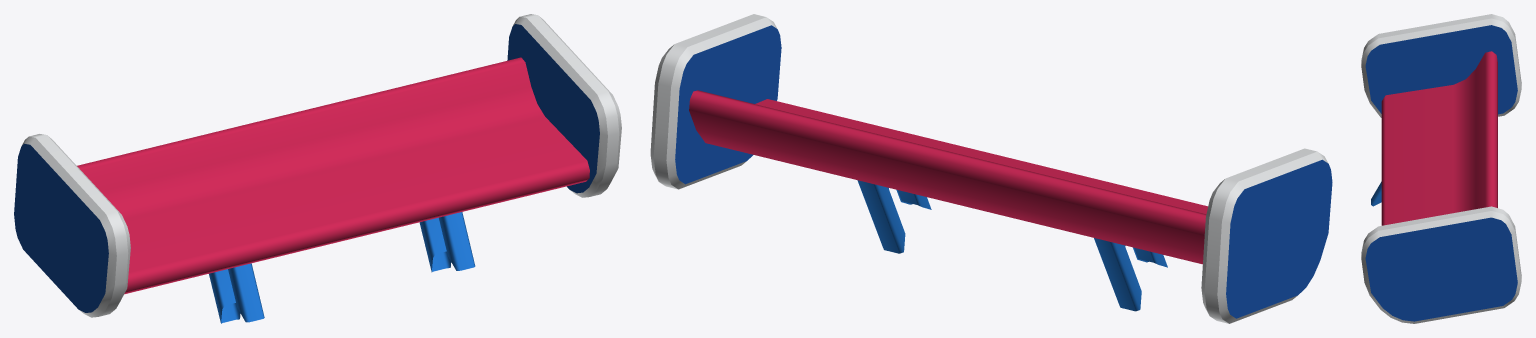
Rendered from Car_07_Spoiler.fbx.
3 renders of one model, left to right at view 1: azimuth 30°, elevation 25°; view 2: azimuth 150°, elevation 25°; view 3: azimuth 270°, elevation 25°, orthographic. The views are drawn at different scales.
Parts seen in each view (by area): view 1: Car_07_Spoiler; view 2: Car_07_Spoiler; view 3: Car_07_Spoiler.
Part boxes in pixels (box(x1,y1,x2,y2)): Car_07_Spoiler: box(14, 14, 621, 323); Car_07_Spoiler: box(650, 14, 1332, 323); Car_07_Spoiler: box(1361, 14, 1521, 323).
Size of the model in its own units: 218 by 73.72 by 75.04.
